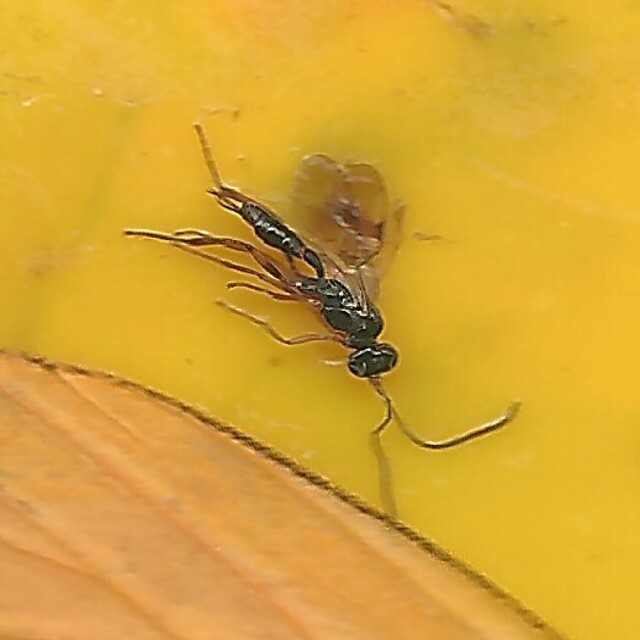Hymenoptera: (123, 122, 517, 518)
